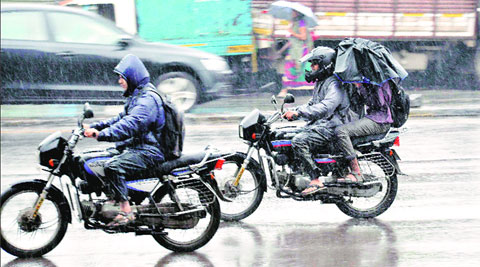Bike: (2, 136, 225, 256), (232, 115, 404, 228)
